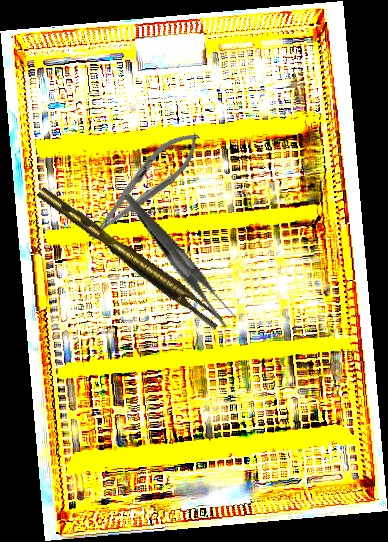Dressing Forceps: (124, 173, 239, 345)
Needle Holder: (77, 121, 210, 251)
Tissue Forceps: (36, 177, 225, 336)
